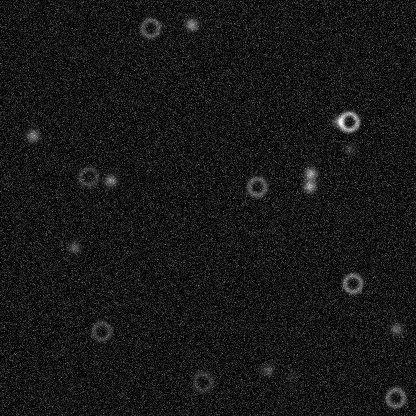Ring: (244, 174, 268, 198), (138, 15, 162, 39), (89, 319, 113, 343), (336, 109, 360, 133), (76, 164, 100, 188), (340, 271, 364, 295), (383, 385, 407, 409), (190, 369, 214, 393)
Spot: (341, 140, 357, 156), (388, 321, 404, 337), (24, 127, 40, 143), (302, 165, 318, 181), (283, 367, 299, 383), (330, 113, 346, 129), (259, 362, 275, 378), (65, 239, 81, 255), (102, 172, 118, 188), (301, 178, 317, 194), (183, 16, 199, 32)
